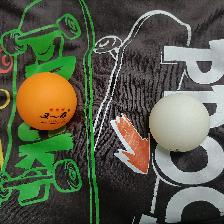WhiteBall: (148, 93, 210, 152)
YellowBall: (14, 71, 77, 131)
